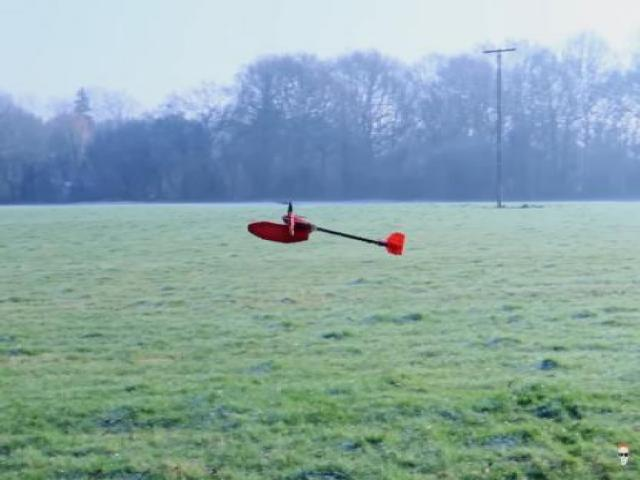uav: (242, 201, 407, 259)
